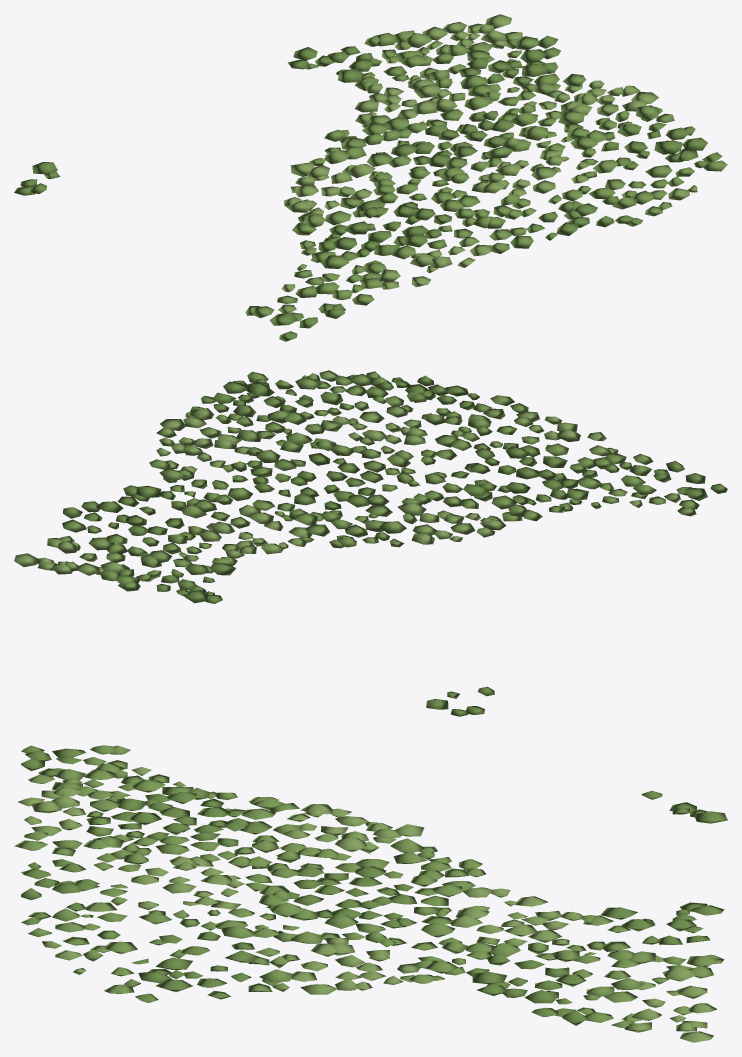
Rendered from canopy-1-1--1.glb.
The picture shows the model from 3 angles, top to bottom: view 1: azimuth 30°, elevation 25°; view 2: azimuth 150°, elevation 25°; view 3: azimuth 270°, elevation 25°; orthographic projection. The views are drawn at different scales.
Bounding box in the file's own units: 520 × 97.5 × 518.
1 material, 1 textured.
